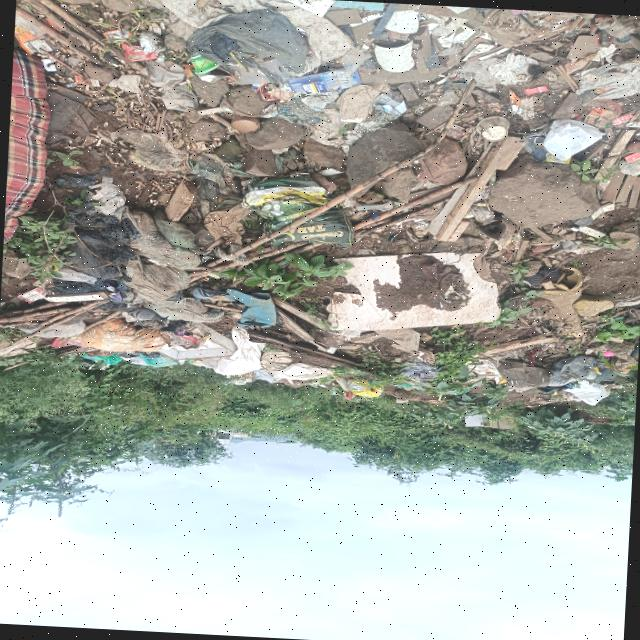garbage: (166, 0, 640, 179), (0, 231, 381, 410), (522, 336, 636, 407)
